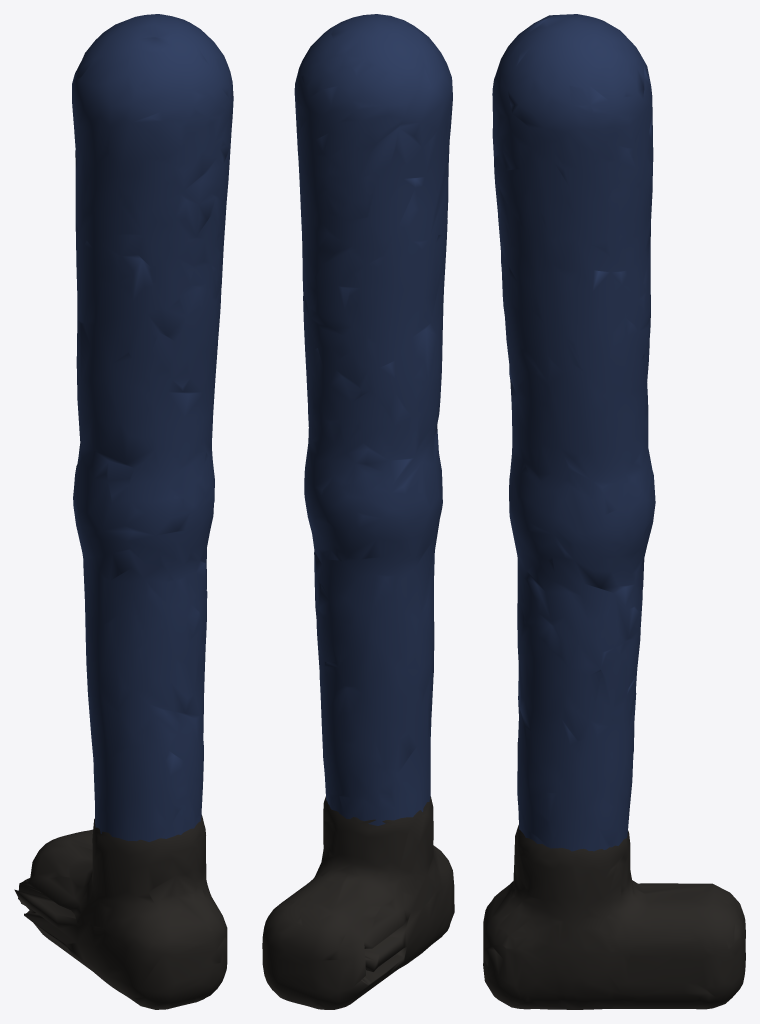
The model's file is son_leg_l.obj.
The picture shows the model from 3 angles, left to right: view 1: azimuth 30°, elevation 25°; view 2: azimuth 150°, elevation 25°; view 3: azimuth 270°, elevation 25°; orthographic projection. The views are drawn at different scales.
Parts seen in each view (by area): view 1: pants, boots; view 2: pants, boots; view 3: pants, boots.
Part boxes in pixels (bbox=[...]): pants: bbox=[72, 14, 233, 841]; boots: bbox=[14, 815, 227, 1009]; pants: bbox=[294, 14, 452, 825]; boots: bbox=[262, 796, 454, 1009]; pants: bbox=[492, 14, 655, 851]; boots: bbox=[483, 825, 745, 1009].
Bounding box in the file's own units: 0.1583 × 1.02 × 0.2502.
